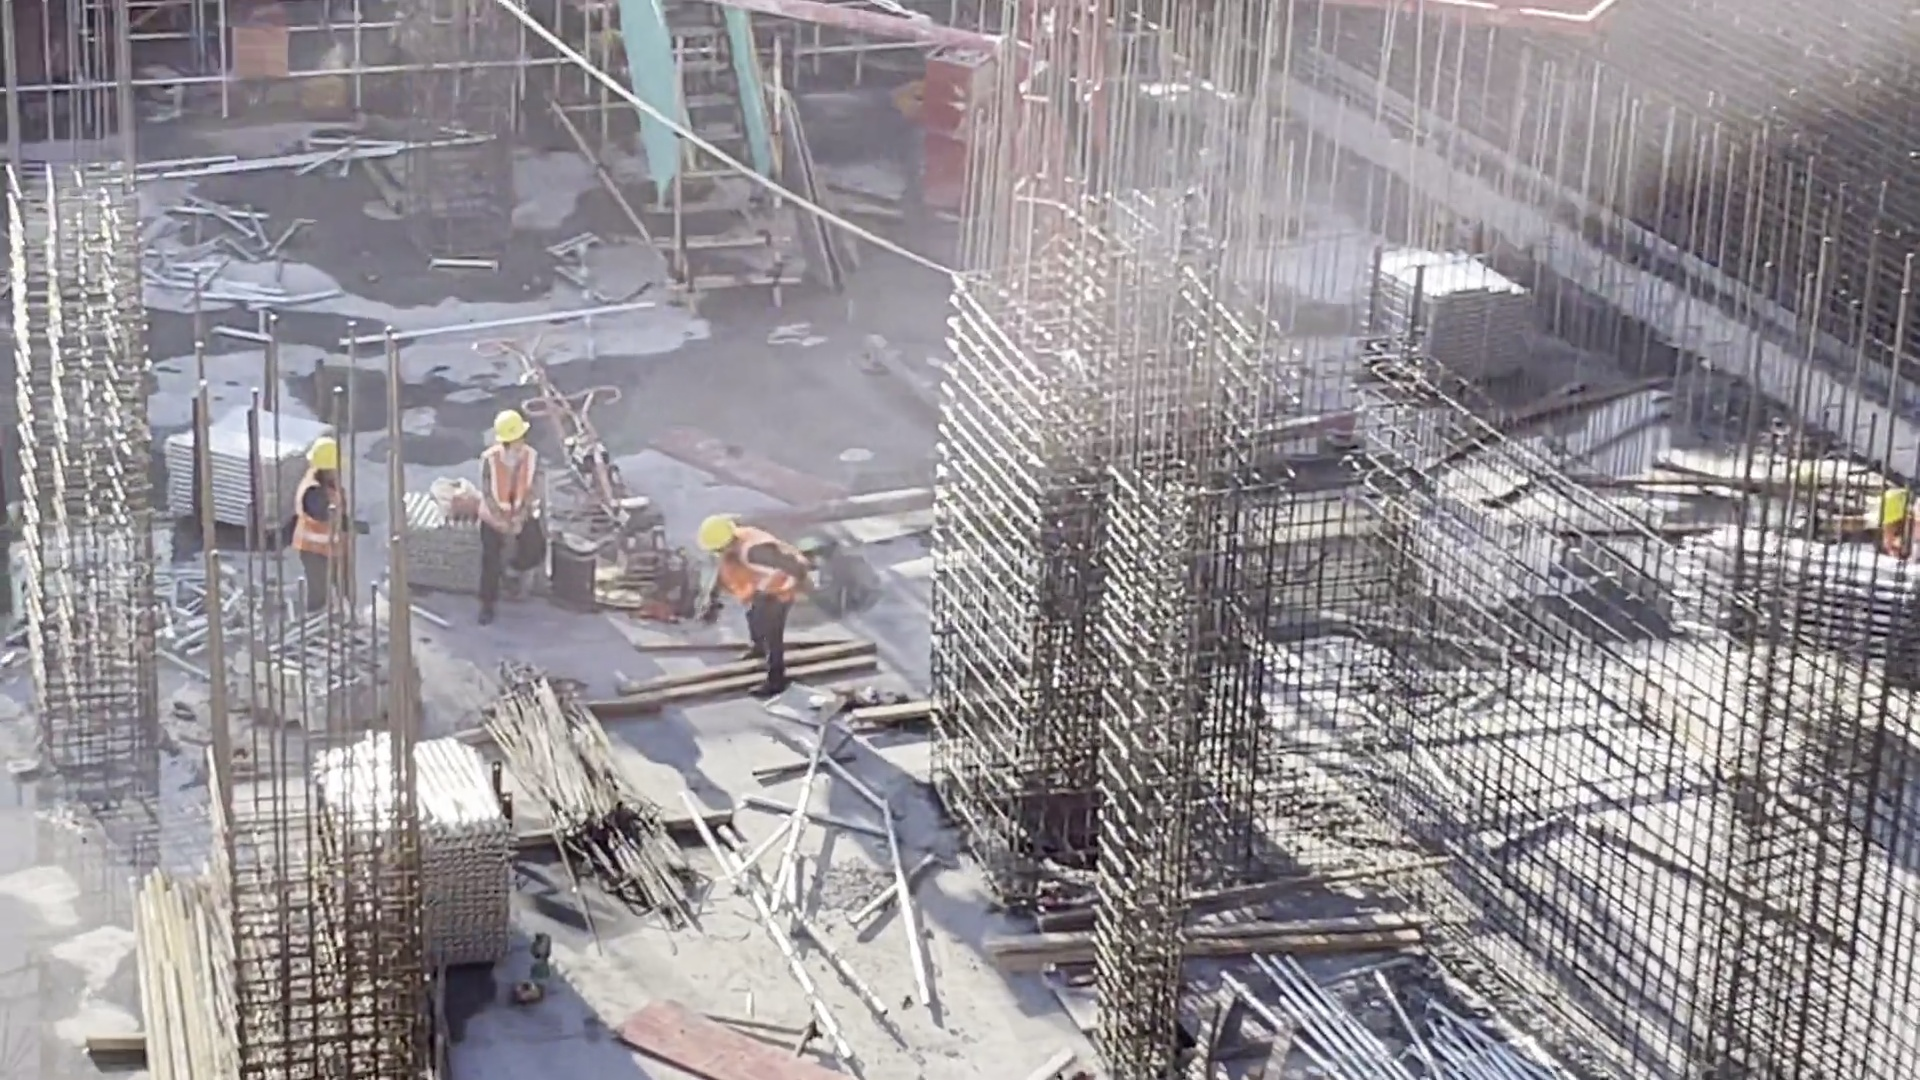helmet: (491, 411, 541, 443), (297, 442, 354, 468), (699, 515, 743, 549), (1873, 489, 1911, 523)
person: (685, 505, 799, 661), (459, 412, 543, 609), (289, 428, 370, 611), (1864, 476, 1920, 561)
scaffold: (318, 742, 525, 955), (154, 589, 399, 726), (144, 395, 359, 550), (1376, 251, 1526, 403), (386, 480, 529, 584)
vest: (484, 445, 551, 534), (295, 472, 356, 564), (720, 530, 795, 599)
